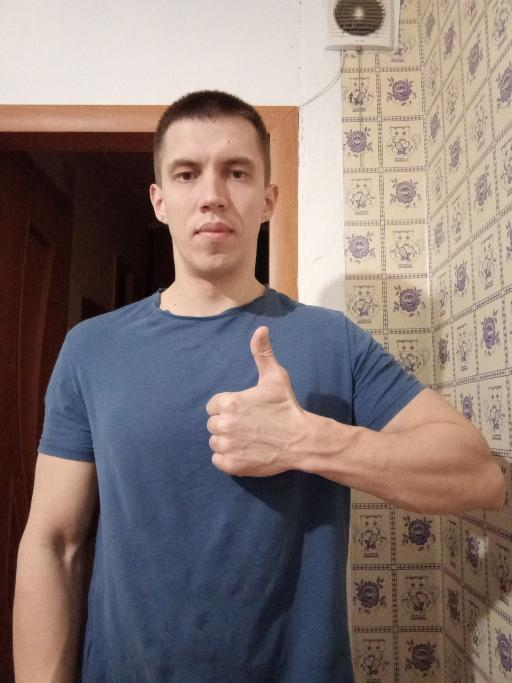like: (202, 321, 310, 481)
